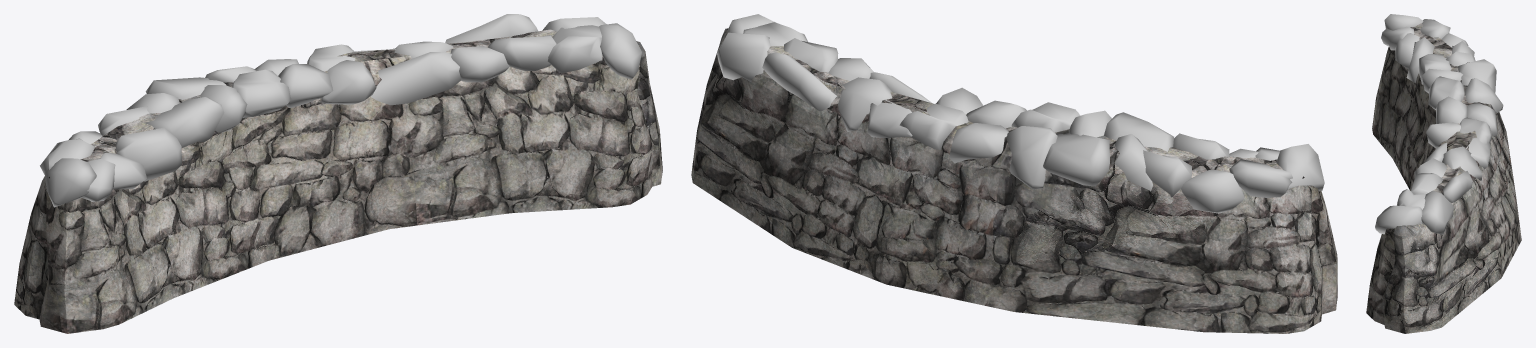
Rendered from Wall_2.fbx.
3 renders of one model, left to right at view 1: azimuth 30°, elevation 25°; view 2: azimuth 150°, elevation 25°; view 3: azimuth 270°, elevation 25°, orthographic. The views are drawn at different scales.
Visible parts, largest first — view 1: Wall, Rock; view 2: Wall, Rock; view 3: Wall, Rock.
Part boxes in pixels (box(x1,y1,x2,y2)): Wall: box(14, 29, 662, 333); Rock: box(40, 14, 641, 207); Wall: box(691, 28, 1337, 333); Rock: box(717, 14, 1324, 213); Wall: box(1366, 23, 1521, 333); Rock: box(1375, 14, 1503, 234).
Bounding box in the file's own units: 826 × 208 × 246.
